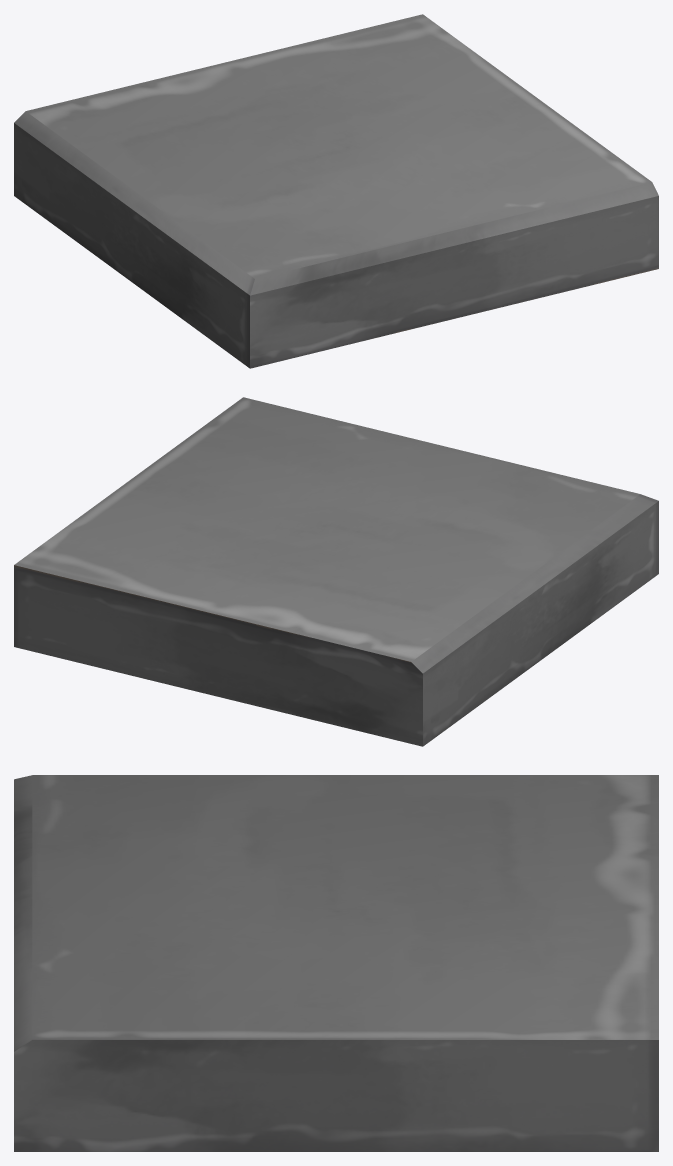
Rendered from prop_exterior_border_corner.gltf.
3 renders of one model, top to bottom at view 1: azimuth 30°, elevation 25°; view 2: azimuth 150°, elevation 25°; view 3: azimuth 270°, elevation 25°, orthographic. The views are drawn at different scales.
Visible parts, largest first — view 1: Prop_ExteriorBorder_Corner; view 2: Prop_ExteriorBorder_Corner; view 3: Prop_ExteriorBorder_Corner.
Boxes of the visible parts, x1,y1,x2,y2 form: Prop_ExteriorBorder_Corner: (14,14,658,368); Prop_ExteriorBorder_Corner: (14,397,658,746); Prop_ExteriorBorder_Corner: (14,775,658,1151).
Bounding box in the file's own units: 0.7 × 0.134 × 0.7.
1 material, 1 textured.
